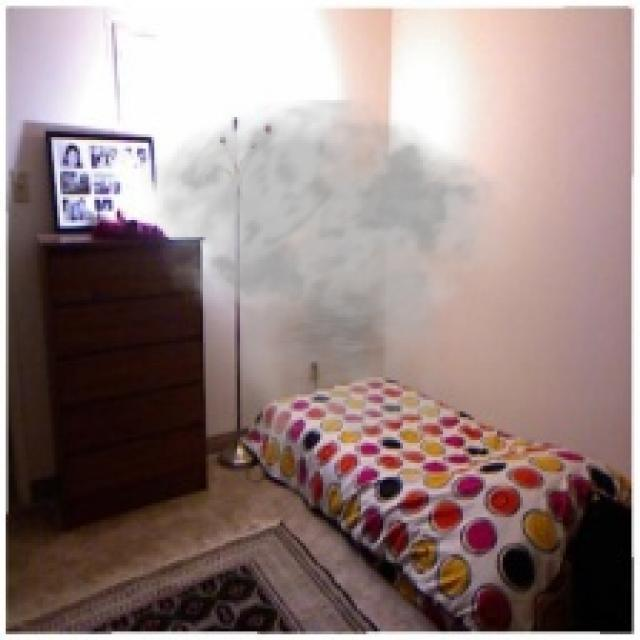Smoke: (140, 97, 529, 472)
